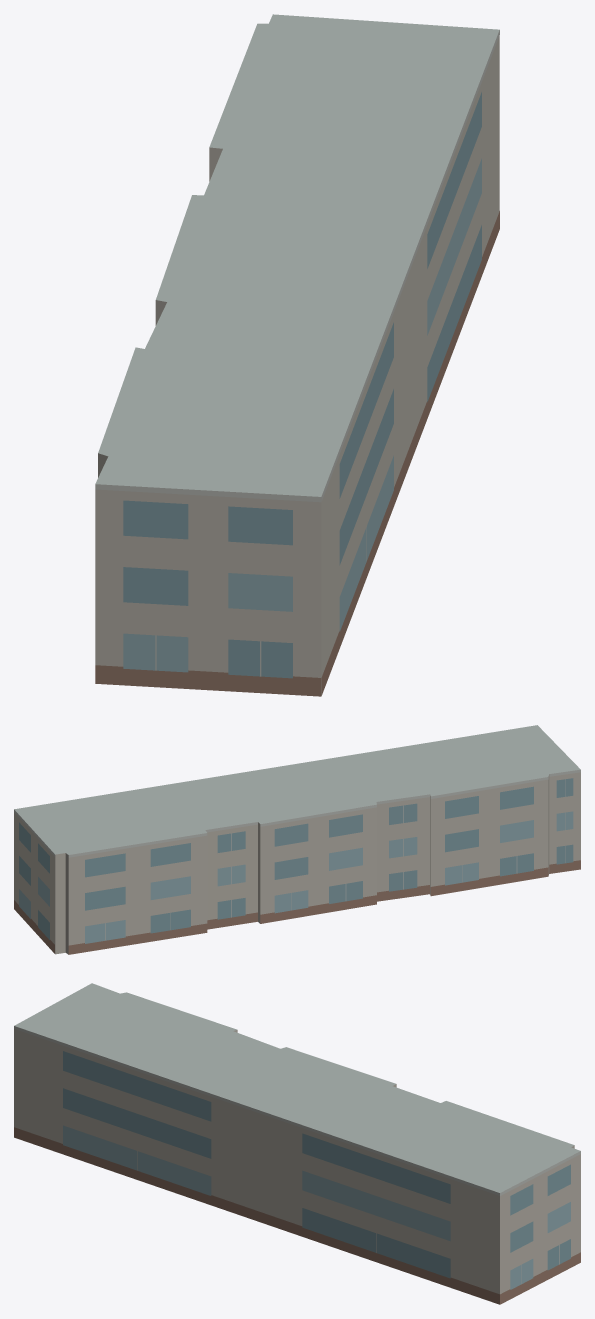
File: survey-upis-32769223.glb
3 renders of one model, top to bottom at view 1: azimuth 30°, elevation 25°; view 2: azimuth 150°, elevation 25°; view 3: azimuth 270°, elevation 25°, orthographic. The views are drawn at different scales.
Parts seen in each view (by area): view 1: survey-upis-32769223.tmp; view 2: survey-upis-32769223.tmp; view 3: survey-upis-32769223.tmp.
Part boxes in pixels (x1=…): survey-upis-32769223.tmp: x1=95, y1=14, x2=499, y2=696; survey-upis-32769223.tmp: x1=14, y1=725, x2=580, y2=954; survey-upis-32769223.tmp: x1=14, y1=983, x2=580, y2=1304.
Bounding box in the file's own units: 36.91 × 9.15 × 42.11.
